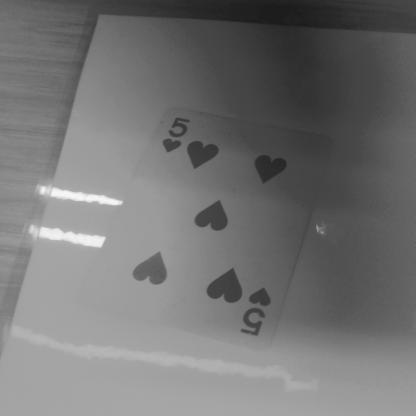5H: (233, 276, 286, 346), (150, 111, 202, 167)
